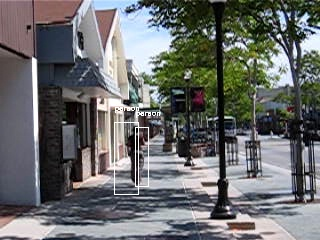person: (128, 127, 147, 187), (127, 127, 146, 187), (129, 127, 148, 187), (128, 126, 147, 186), (128, 128, 147, 188)
target_negative: (89, 25, 200, 219), (61, 48, 180, 148), (102, 178, 277, 222), (26, 4, 123, 21), (306, 43, 314, 218), (315, 105, 318, 157)
